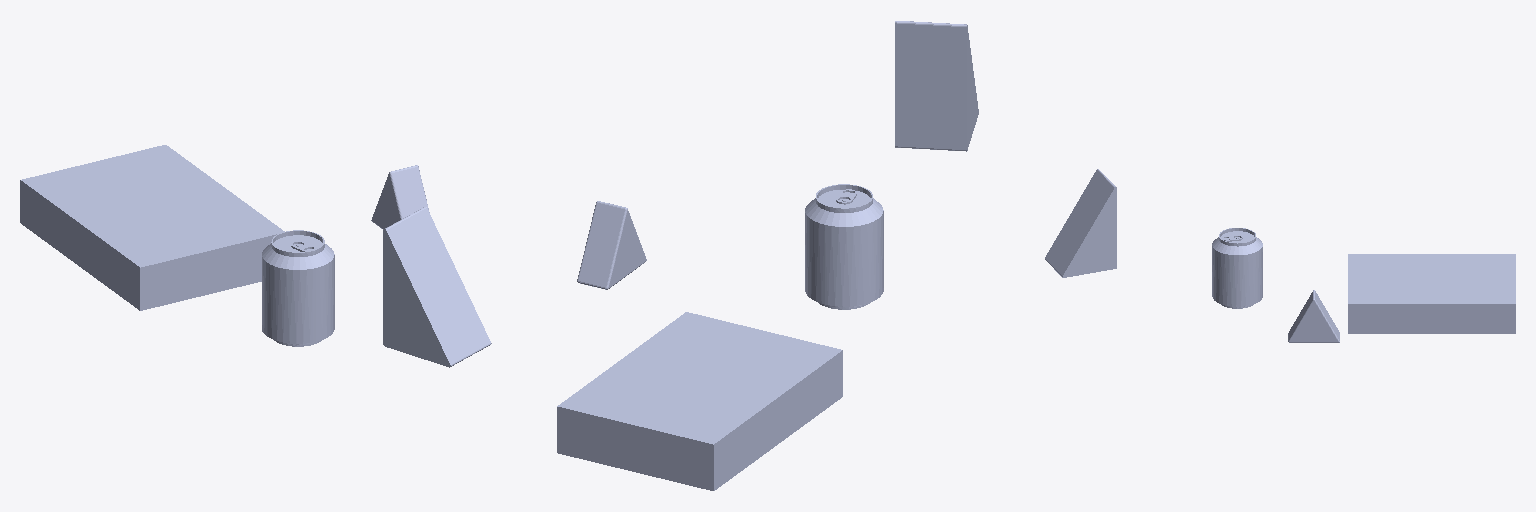
robot.urdf — obj2:
<?xml version="1.0"?>
<robot
  name="obj2">
  <link
    name="lunchbox">
    <inertial>
      <origin
        xyz="8.6736E-18 0 -0.025"
        rpy="0 0 0" />
      <mass
        value="0.535" />
      <inertia
        ixx="0.00371"
        ixy="0"
        ixz="0"
        iyy="0.0021609"
        iyz="0"
        izz="0.0048427" />
    </inertial>
    <visual>
      <origin
        xyz="0 0 0"
        rpy="0 0 0" />
      <geometry>
        <mesh
          filename="package://obj2/meshes/lunchbox.STL" />
      </geometry>
      <material
        name="">
        <color
          rgba="0.79216 0.81961 0.93333 1" />
      </material>
    </visual>
    <collision>
      <origin
        xyz="0 0 0"
        rpy="0 0 0" />
      <geometry>
        <mesh
          filename="package://obj2/meshes/lunchbox.STL" />
      </geometry>
    </collision>
  </link>
  <link
    name="riceball">
    <inertial>
      <origin
        xyz="0.0175 0 0.00014145"
        rpy="0 0 0" />
      <mass
        value="0.11" />
      <inertia
        ixx="7.011E-05"
        ixy="0"
        ixz="2.7E-07"
        iyy="8.42E-05"
        iyz="0"
        izz="7.871E-05" />
    </inertial>
    <visual>
      <origin
        xyz="0 0 0"
        rpy="0 0 0" />
      <geometry>
        <mesh
          filename="package://obj2/meshes/riceball.STL" />
      </geometry>
      <material
        name="">
        <color
          rgba="0.79216 0.81961 0.93333 1" />
      </material>
    </visual>
    <collision>
      <origin
        xyz="0 0 0"
        rpy="0 0 0" />
      <geometry>
        <mesh
          filename="package://obj2/meshes/riceball.STL" />
      </geometry>
    </collision>
  </link>
  <joint
    name="a"
    type="fixed">
    <origin
      xyz="0.182552595103116 -0.176161371948745 0.0199021565213709"
      rpy="2.36553201269565E-17 1.93745035311216E-33 1.41931920761739E-16" />
    <parent
      link="lunchbox" />
    <child
      link="riceball" />
    <axis
      xyz="0 0 0" />
  </joint>
  <link
    name="drink">
    <inertial>
      <origin
        xyz="2.4941E-08 -0.0019956 -0.050688"
        rpy="0 0 0" />
      <mass
        value="0.26" />
      <inertia
        ixx="0.00109"
        ixy="0"
        ixz="0"
        iyy="0.0010888"
        iyz="2.589E-05"
        izz="0.00027699" />
    </inertial>
    <visual>
      <origin
        xyz="0 0 0"
        rpy="0 0 0" />
      <geometry>
        <mesh
          filename="package://obj2/meshes/drink.STL" />
      </geometry>
      <material
        name="">
        <color
          rgba="0.79216 0.81961 0.93333 1" />
      </material>
    </visual>
    <collision>
      <origin
        xyz="0 0 0"
        rpy="0 0 0" />
      <geometry>
        <mesh
          filename="package://obj2/meshes/drink.STL" />
      </geometry>
    </collision>
  </link>
  <joint
    name="b"
    type="fixed">
    <origin
      xyz="0.00631524424596615 -0.288839348928517 0.0700000000819564"
      rpy="0 0 0.236090111934853" />
    <parent
      link="lunchbox" />
    <child
      link="drink" />
    <axis
      xyz="0 0 0" />
  </joint>
  <link
    name="sandwich">
    <inertial>
      <origin
        xyz="0.0031696 0.016173 -0.019252"
        rpy="0 0 0" />
      <mass
        value="0.105" />
      <inertia
        ixx="0.00028292"
        ixy="5.18E-06"
        ixz="-8.1E-06"
        iyy="0.00025419"
        iyz="1.645E-05"
        izz="0.00015442" />
    </inertial>
    <visual>
      <origin
        xyz="0 0 0"
        rpy="0 0 0" />
      <geometry>
        <mesh
          filename="package://obj2/meshes/sandwich.STL" />
      </geometry>
      <material
        name="">
        <color
          rgba="0.79216 0.81961 0.93333 1" />
      </material>
    </visual>
    <collision>
      <origin
        xyz="0 0 0"
        rpy="0 0 0" />
      <geometry>
        <mesh
          filename="package://obj2/meshes/sandwich.STL" />
      </geometry>
    </collision>
  </link>
  <joint
    name="c"
    type="fixed">
    <origin
      xyz="0.0395148801781737 -0.527045510687948 0.111072045951562"
      rpy="0 0 0.39309481042652" />
    <parent
      link="lunchbox" />
    <child
      link="sandwich" />
    <axis
      xyz="0 0 0" />
  </joint>
</robot>

--- Render facts (derived) ---
3 views of the same robot in one strip: view 1: azimuth 30°, elevation 25°; view 2: azimuth 150°, elevation 25°; view 3: azimuth 270°, elevation 25° (orthographic).
Robot: obj2 — 4 links, 3 joints (3 fixed); root link lunchbox; default pose: all joints at 0.
Visible links, largest first — view 1: lunchbox, sandwich, drink, riceball; view 2: lunchbox, sandwich, drink, riceball; view 3: lunchbox, sandwich, drink, riceball.
Boxes of the visible links, x1,y1,x2,y2 form: lunchbox: (20, 145, 284, 310); sandwich: (383, 207, 491, 367); drink: (262, 230, 334, 346); riceball: (371, 165, 429, 229); lunchbox: (557, 312, 842, 490); sandwich: (895, 21, 978, 151); drink: (805, 184, 883, 309); riceball: (577, 201, 646, 289); lunchbox: (1348, 254, 1515, 333); sandwich: (1045, 169, 1116, 277); drink: (1212, 228, 1262, 308); riceball: (1288, 290, 1339, 342).
Bounding box of the posed robot: 0.3051 × 0.7047 × 0.2276 m (x, y, z).
4 mesh visuals loaded from 4 distinct referenced files (4 binary STL).